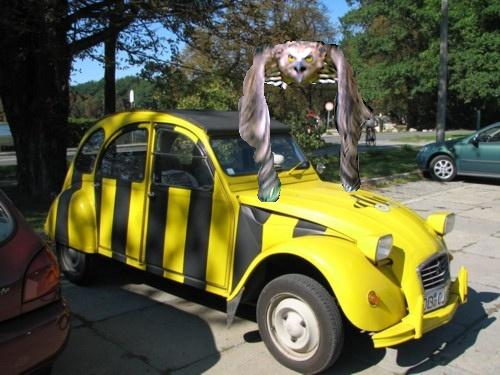tampered: (239, 41, 373, 202)
